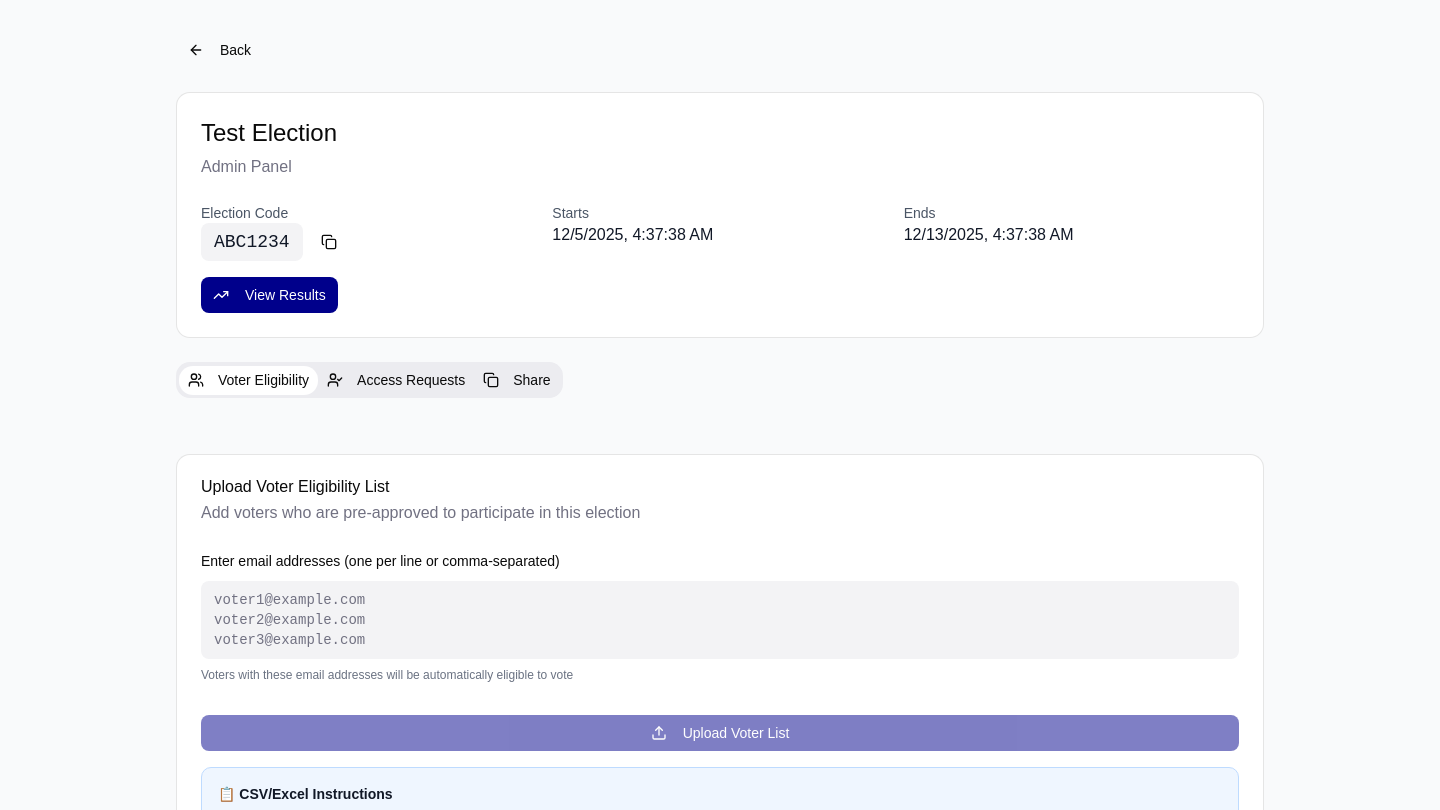
Test case: AdminPanel - handleUploadVoters › Loading state management › should reset uploading state on error
expect the heading "Test Election" is shown: met, box [201, 119, 337, 146]
Type "valid@example.com" into the text box with placeholder "voter1@example.com voter2@example.com voter3@example.com" at point(720, 620), box [201, 581, 1239, 659]
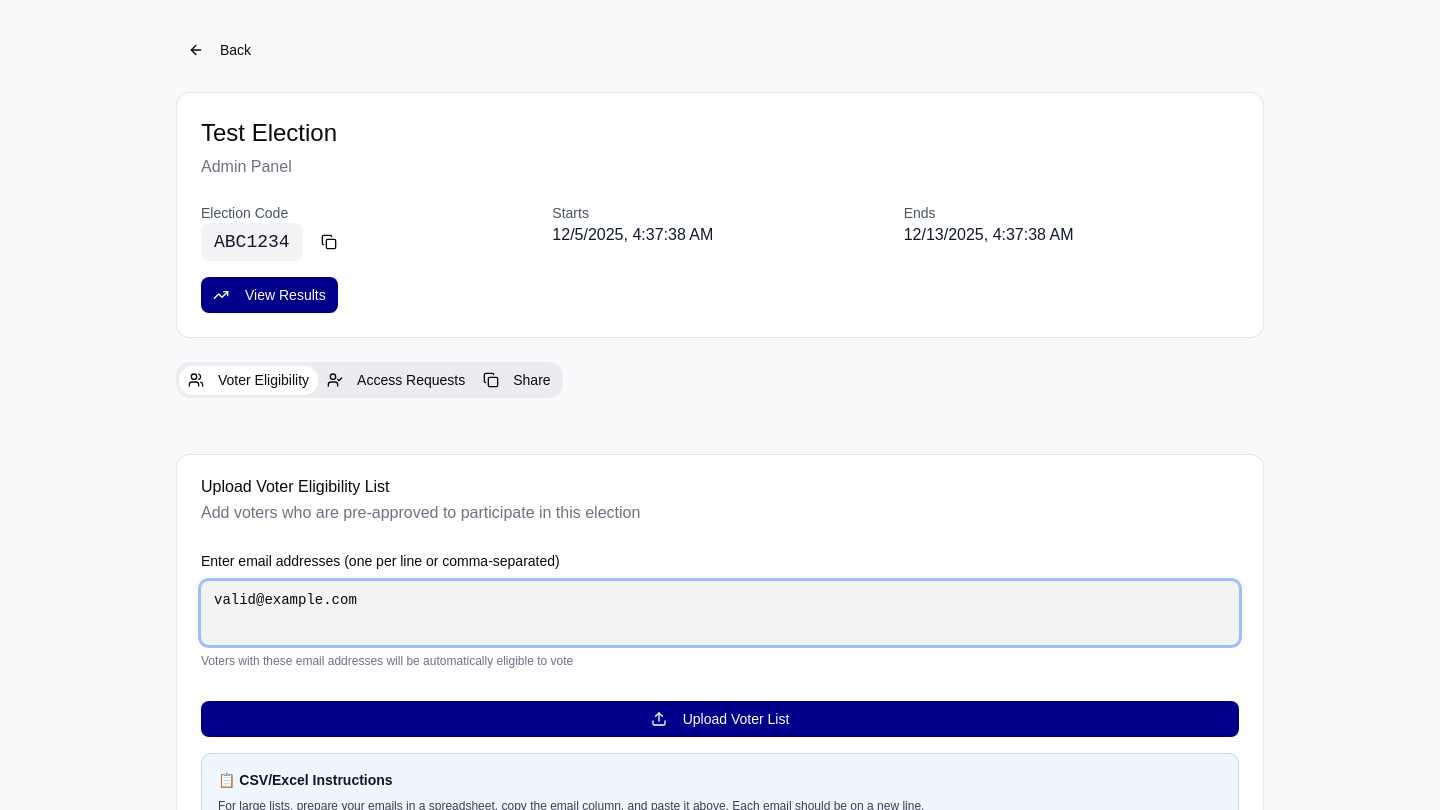
Click the button "Upload Voter List" at point(720, 719), box [201, 701, 1239, 737]
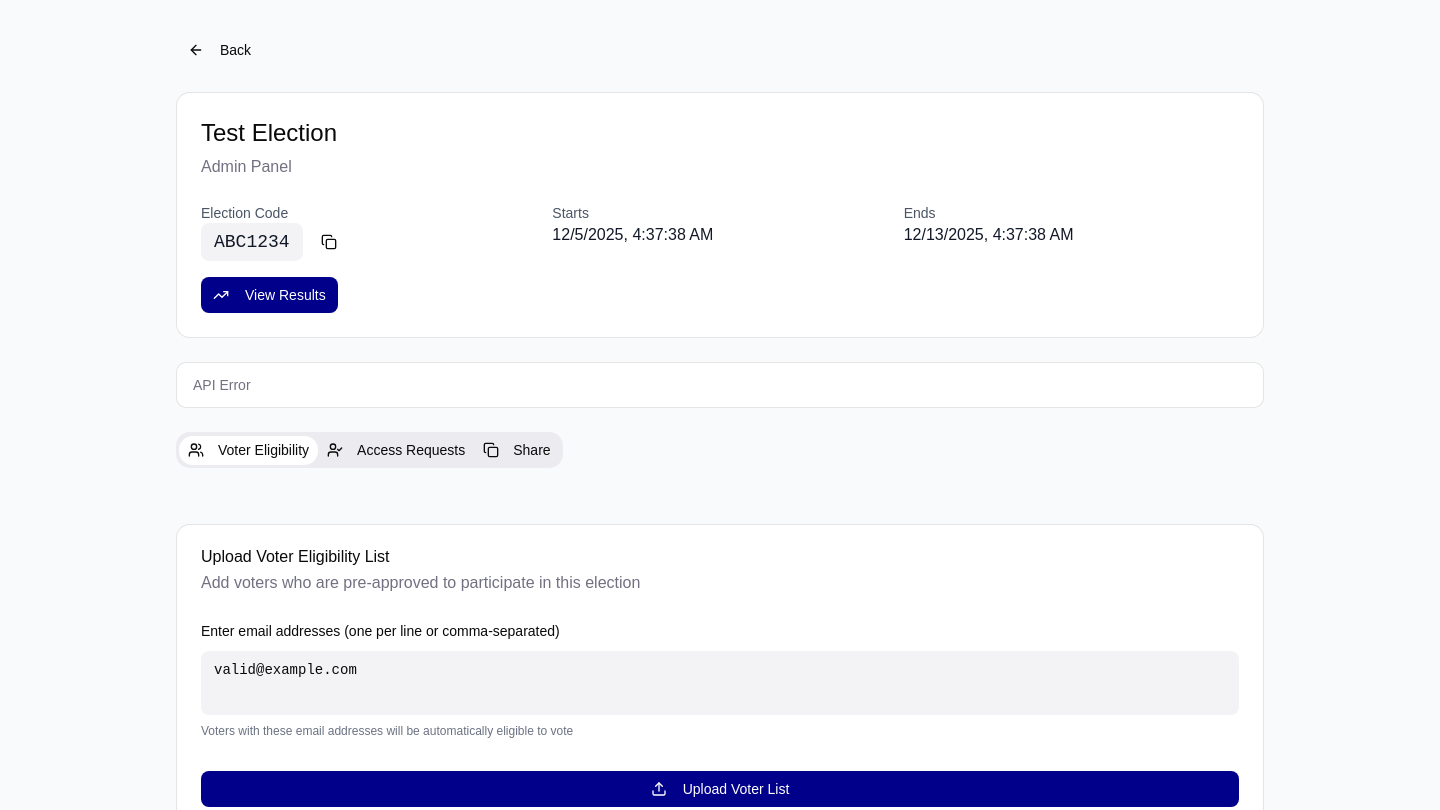
expect the button "Upload Voter List" is enabled: met, box [201, 771, 1239, 807]
expect the text "API Error" is shown: met, box [193, 377, 251, 393]
